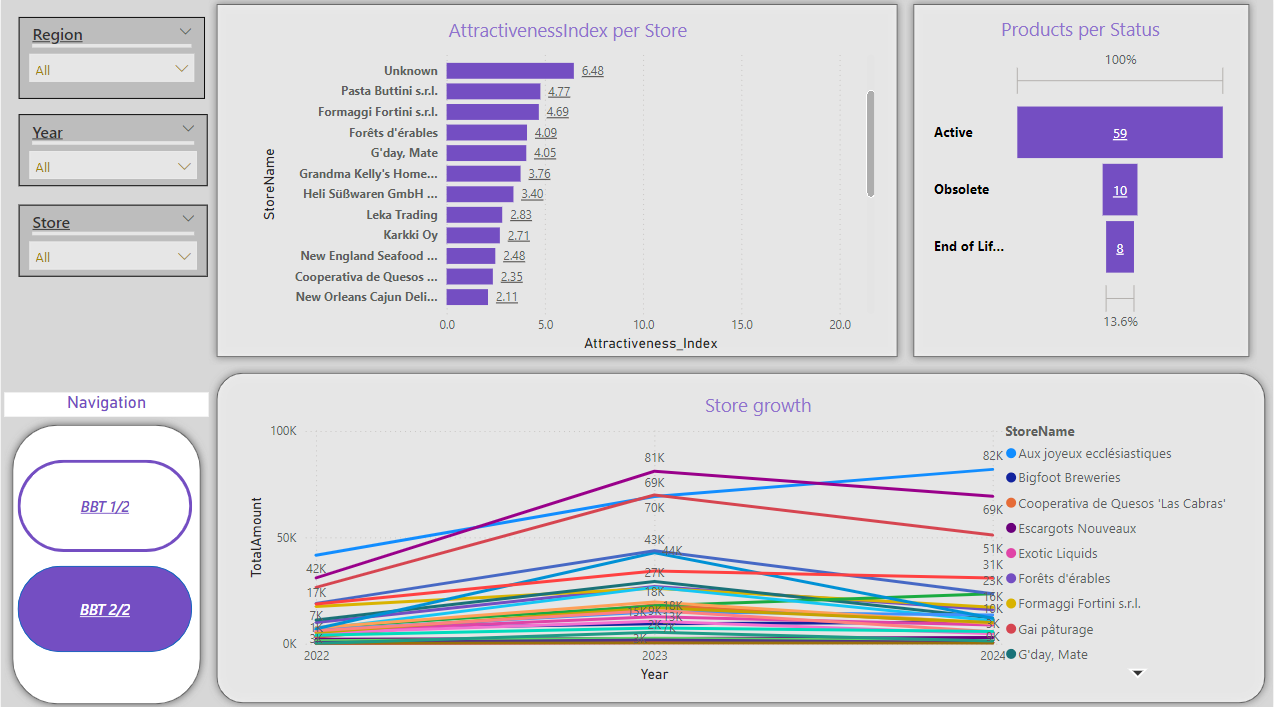

The dashboard page shown, as its layout file describes it:
{"tool":"powerbi","page":{"name":"p2","canvas":[1280,720],"ordinal":1},"visuals":[{"type":"shape","box":[208.6,0,701.4,371.4],"z":0},{"type":"shape","box":[208.6,371.4,1071.4,348.6],"z":1000},{"type":"shape","title":"Navigation","box":[2.9,398.6,205.7,321.4],"z":2000},{"type":"slicer","fields":{"Values":["DimStore.StoreName"]},"box":[18.2,210.2,190.5,72.9],"z":3000},{"type":"shape","box":[17.1,572.9,175.7,87.1],"z":4000},{"type":"shape","box":[910,0,354.3,371.4],"z":7000},{"type":"shape","box":[17.1,467.1,175.7,92.9],"z":8000},{"type":"lineChart","title":"Store growth","fields":{"Y":["Sum(FactSales.TotalAmount)"],"Series":["DimStore.StoreName"],"Category":["DimCalendar.Year"]},"box":[242.9,398.6,1037.1,295.7],"z":9000},{"type":"slicer","fields":{"Values":["FactSales.Region"]},"box":[17.8,20.6,187.8,82.3],"z":10000},{"type":"slicer","fields":{"Values":["DimCalendar.Year"]},"box":[17.8,119.3,190.6,72.7],"z":11000},{"type":"barChart","title":"AttractivenessIndex per Store","fields":{"Category":["DimStore.StoreName"],"Y":["Max(DimStore.AttractivenessIndex)"]},"box":[242.9,20,627.1,340],"z":12000},{"type":"funnel","title":"Products per Status","fields":{"Category":["DimProduct.ProductStatus"],"Y":["CountNonNull(DimProduct.ProductName)"]},"box":[932.9,20,305.7,324.3],"z":13000}]}

Visuals, with their boxes in screenshot pixels (x1, y1, x2, y2), scaled from the page's 1280x720 canvas onto the 1274x707 screenshot:
shape: crop(208, 0, 906, 365)
shape: crop(208, 365, 1273, 706)
"Navigation" shape: crop(3, 391, 208, 706)
slicer - DimStore.StoreName: crop(18, 206, 208, 278)
shape: crop(17, 563, 192, 648)
shape: crop(906, 0, 1258, 365)
shape: crop(17, 459, 192, 550)
"Store growth" lineChart: crop(242, 391, 1273, 682)
slicer - FactSales.Region: crop(18, 20, 205, 101)
slicer - DimCalendar.Year: crop(18, 117, 207, 189)
"AttractivenessIndex per Store" barChart: crop(242, 20, 866, 354)
"Products per Status" funnel: crop(929, 20, 1233, 338)
